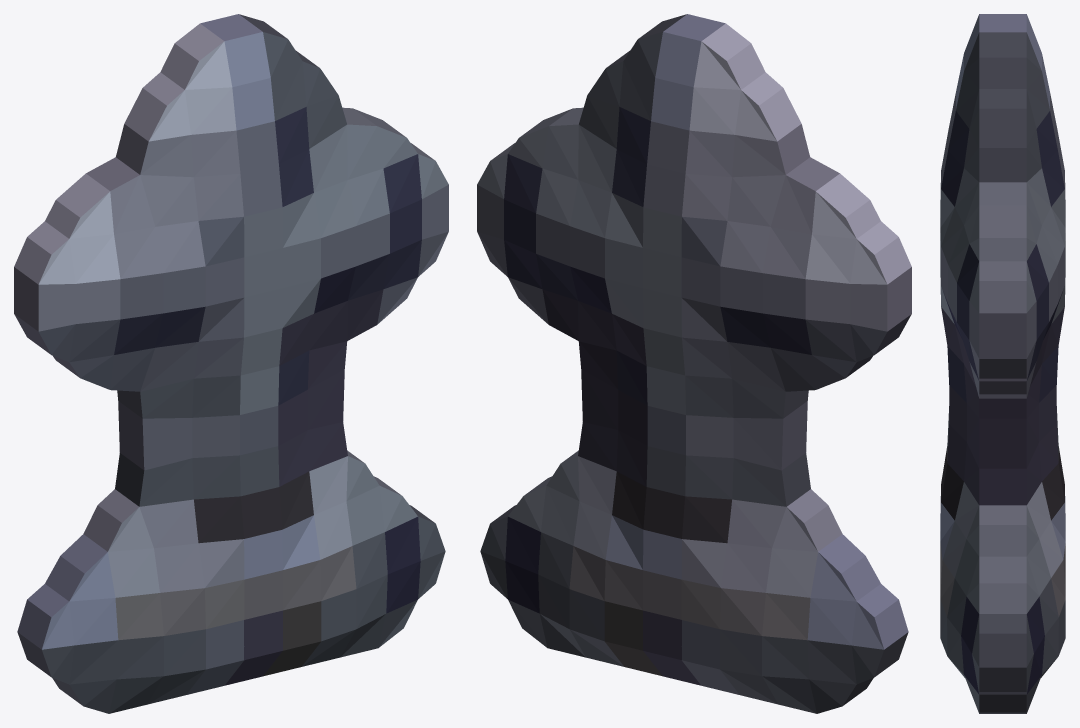
The model's file is tombstone.glb.
3 views of the same model, side by side, from view 1: azimuth 30°, elevation 25°; view 2: azimuth 150°, elevation 25°; view 3: azimuth 270°, elevation 25° (orthographic). The views are drawn at different scales.
Parts seen in each view (by area): view 1: tombstone; view 2: tombstone; view 3: tombstone.
Boxes of the visible parts, left/top/right/bottom form: tombstone: left=14, top=14, right=448, bottom=713; tombstone: left=477, top=14, right=911, bottom=713; tombstone: left=940, top=14, right=1065, bottom=713.
Size of the model in its own units: 0.6663 by 1 by 0.1813.
Materials: 1 (1 with a texture image).
